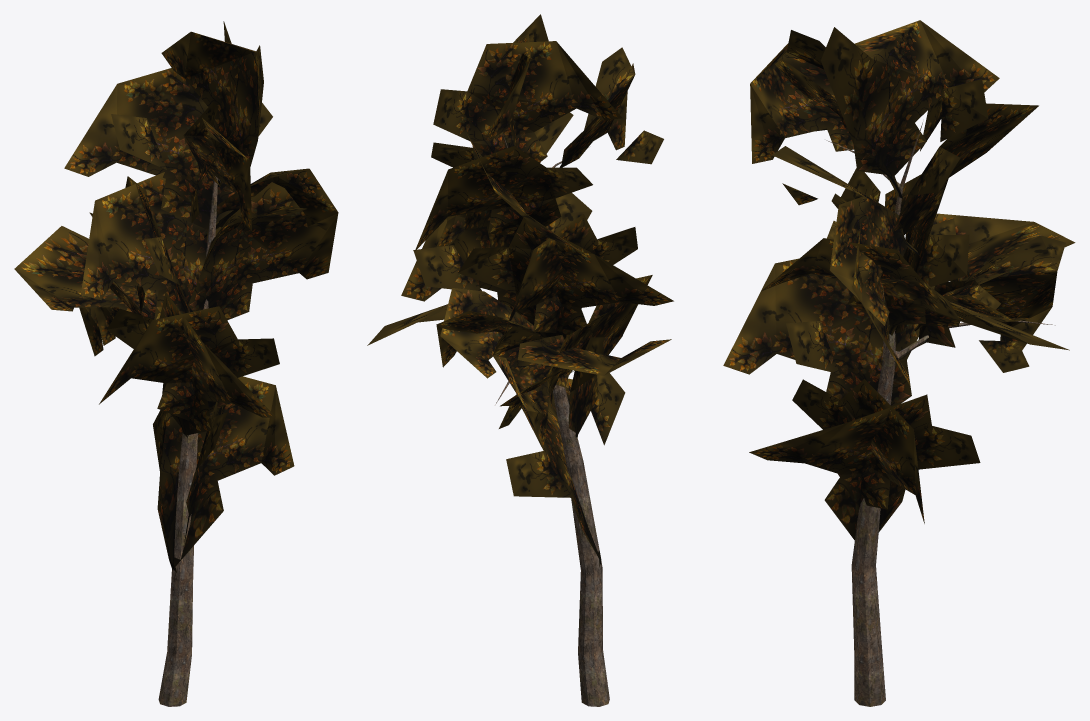
The model's file is tree_2.dae.
The picture shows the model from 3 angles, left to right: view 1: azimuth 30°, elevation 25°; view 2: azimuth 150°, elevation 25°; view 3: azimuth 270°, elevation 25°; orthographic projection. The views are drawn at different scales.
Visible parts, largest first — view 1: Mesh_Object; view 2: Mesh_Object; view 3: Mesh_Object.
Boxes of the visible parts, left/top/right/bottom form: Mesh_Object: left=14, top=21, right=338, bottom=706; Mesh_Object: left=367, top=14, right=673, bottom=706; Mesh_Object: left=723, top=20, right=1075, bottom=706.
Bounding box in the file's own units: 3.25 × 7.41 × 3.33.
